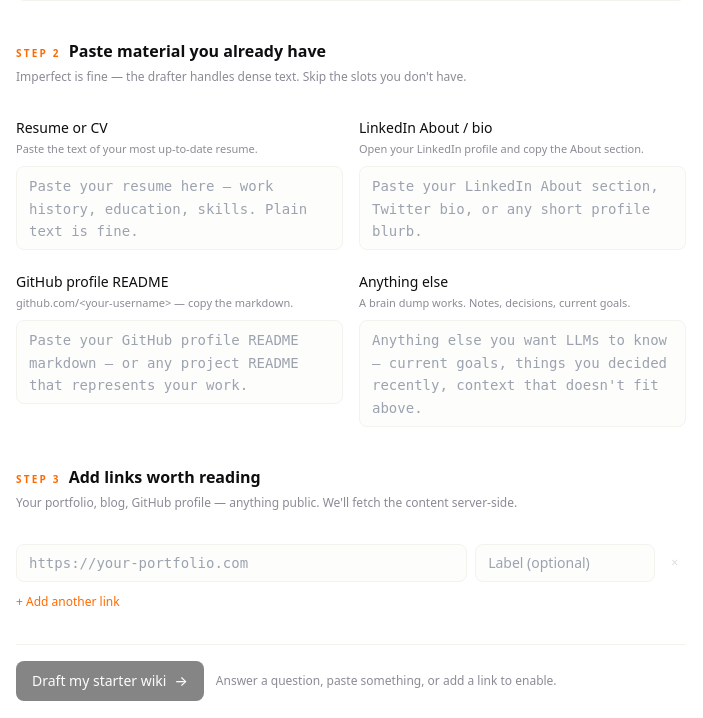
WelcomePage guided-assembly form › clears the last URL row instead of removing it (form never collapses)
The image size is (703, 718).
(page scrolled)
Type "https://lonely.example" into the field with placeholder "https://your-portfolio.com" at (242, 563), box top-left (16, 544), bottom-right (467, 582)
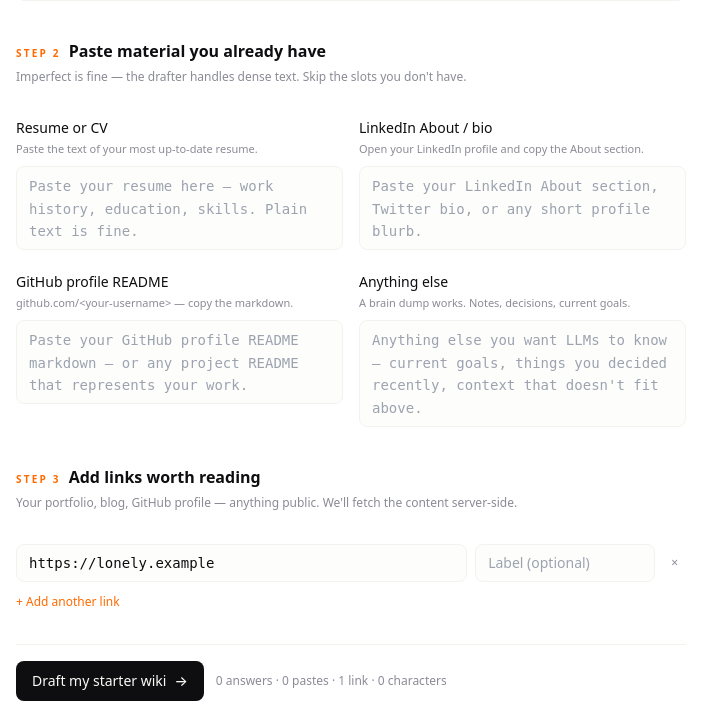
Remove the only row.
Click the button named "Remove link" at (675, 563), box top-left (663, 555), bottom-right (686, 571)
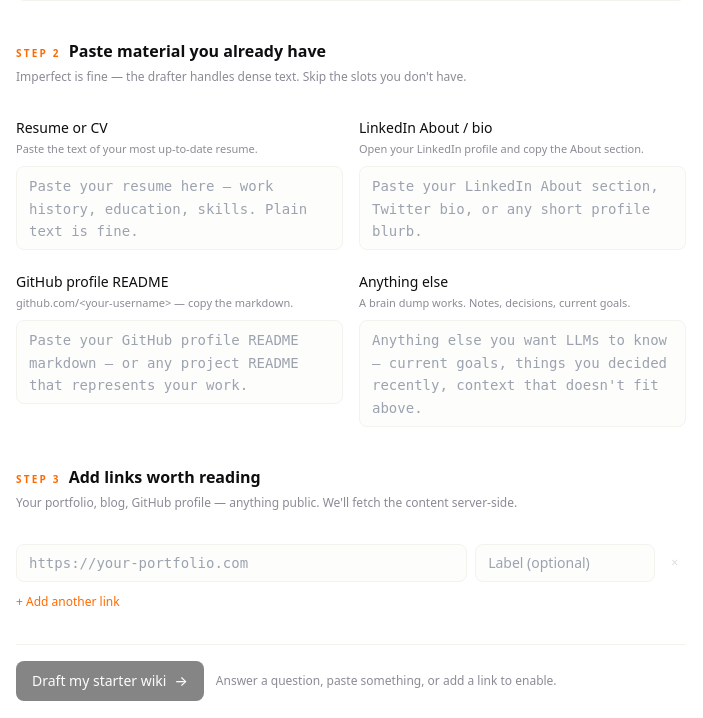
Expected: the element with test id "assemble-url-row-0" is shown, top-left (16, 544), bottom-right (686, 582)
Expected: the field with placeholder "https://your-portfolio.com" is empty, top-left (16, 544), bottom-right (467, 582)
